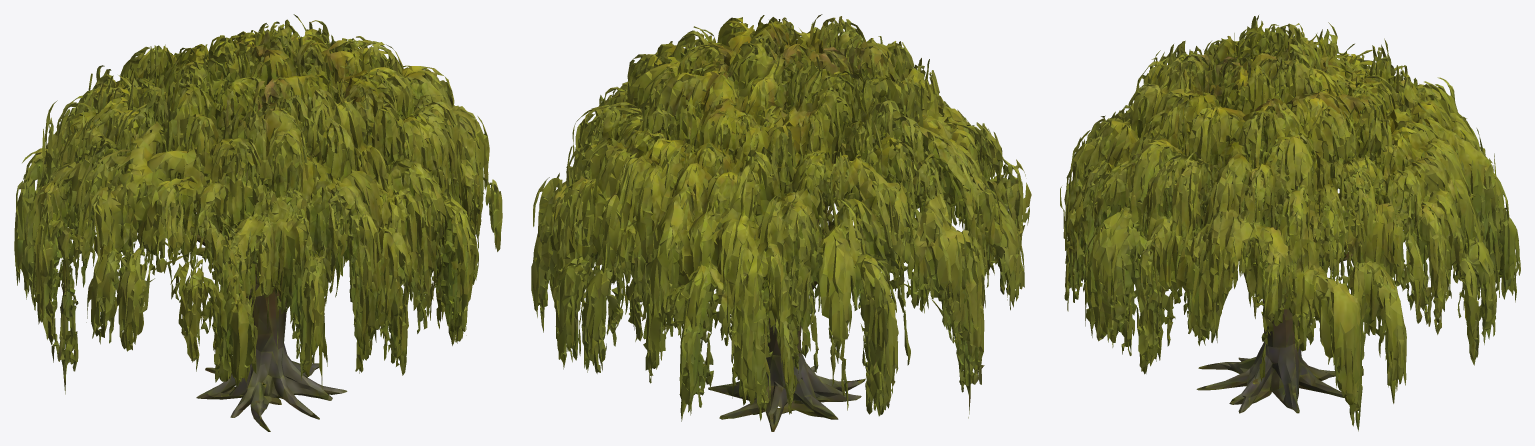
File: lib_willow.hd.glb
3 views of the same model, side by side, from view 1: azimuth 30°, elevation 25°; view 2: azimuth 150°, elevation 25°; view 3: azimuth 270°, elevation 25° (orthographic). The views are drawn at different scales.
Parts seen in each view (by area): view 1: output_unwrapped; view 2: output_unwrapped; view 3: output_unwrapped.
Part boxes in pixels (x1,y1,x2,y2): output_unwrapped: (14, 14, 502, 431); output_unwrapped: (531, 14, 1031, 431); output_unwrapped: (1060, 15, 1520, 431).
Bounding box in the file's own units: 2 × 1.62 × 1.98.
1 material, 1 textured.
